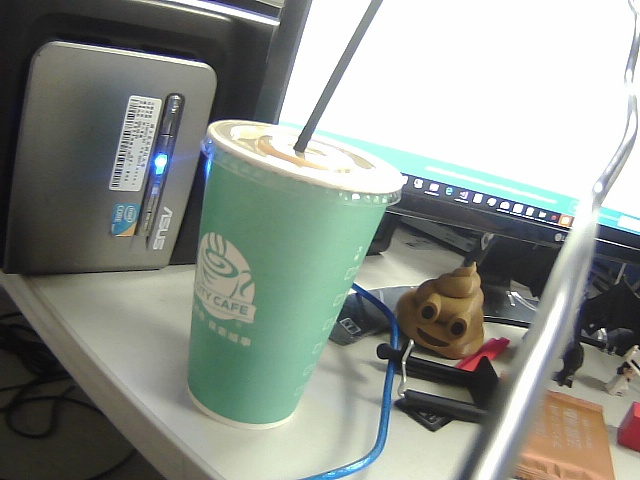beverage: (181, 1, 405, 441)
